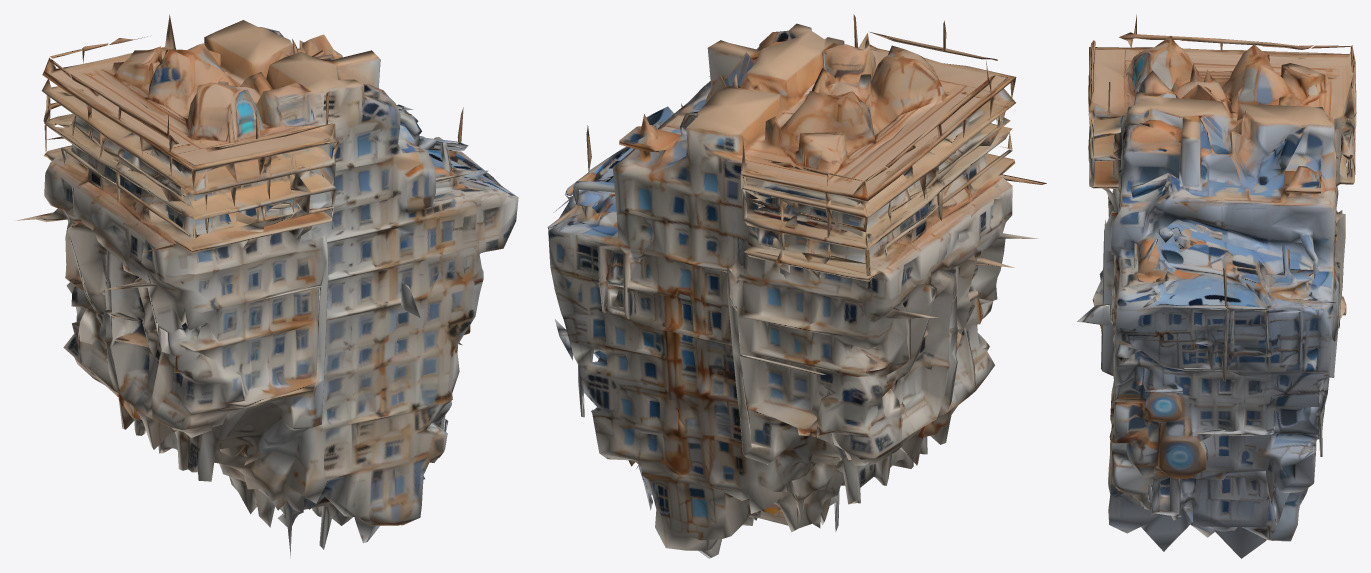
File: Wall.obj
The picture shows the model from 3 angles, left to right: view 1: azimuth 30°, elevation 25°; view 2: azimuth 150°, elevation 25°; view 3: azimuth 270°, elevation 25°; orthographic projection. The views are drawn at different scales.
Visible parts, largest first — view 1: tripo_node_87753245-c4ab-4728-8aac-391f4b6bb0da; view 2: tripo_node_87753245-c4ab-4728-8aac-391f4b6bb0da; view 3: tripo_node_87753245-c4ab-4728-8aac-391f4b6bb0da.
Boxes of the visible parts, x1,y1,x2,y2 form: tripo_node_87753245-c4ab-4728-8aac-391f4b6bb0da: (15,14,518,558); tripo_node_87753245-c4ab-4728-8aac-391f4b6bb0da: (547,14,1046,558); tripo_node_87753245-c4ab-4728-8aac-391f4b6bb0da: (1076,14,1356,558).
Bounding box in the file's own units: 0.8258 × 1 × 0.5605.
1 material, 1 textured.
